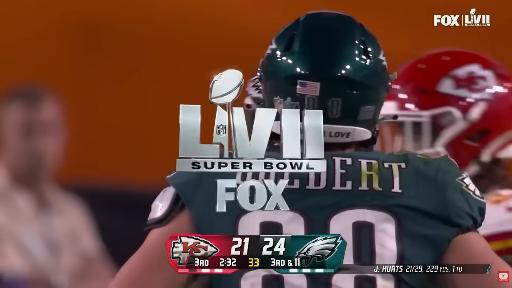Helmet: (244, 11, 390, 142), (379, 50, 511, 174)
Jersey: (168, 151, 485, 265), (479, 190, 511, 262)
Player: (111, 11, 510, 287), (380, 50, 511, 262)
